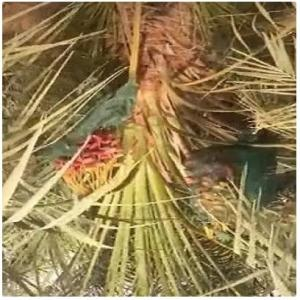palm tree: (2, 2, 296, 295)
